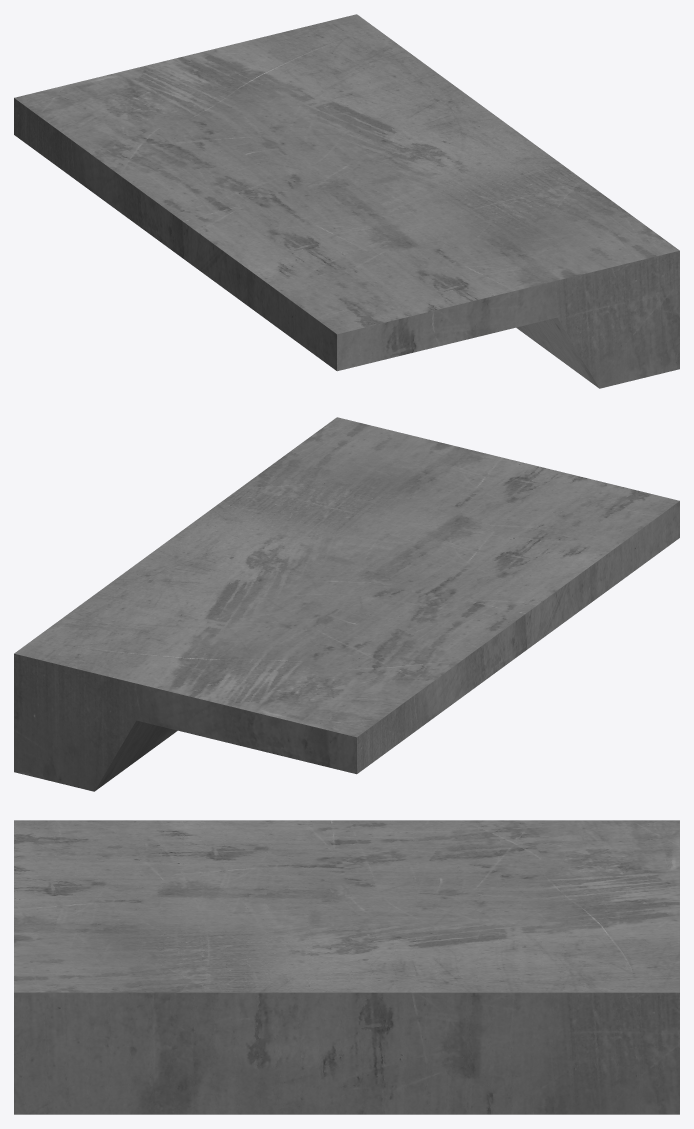
The model's file is MMM_Cafe_TV_Mount.fbx.
The picture shows the model from 3 angles, top to bottom: view 1: azimuth 30°, elevation 25°; view 2: azimuth 150°, elevation 25°; view 3: azimuth 270°, elevation 25°; orthographic projection. The views are drawn at different scales.
Parts seen in each view (by area): view 1: TVs_Mount; view 2: TVs_Mount; view 3: TVs_Mount.
Part boxes in pixels (bbox=[...]): TVs_Mount: bbox=[14, 14, 679, 388]; TVs_Mount: bbox=[14, 417, 679, 791]; TVs_Mount: bbox=[14, 820, 679, 1114].
Bounding box in the file's own units: 595 × 197 × 971.
Materials: 1 (1 with a texture image).
